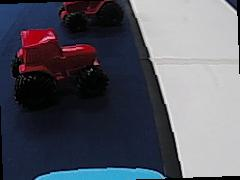Tracktor: (8, 25, 110, 104), (56, 1, 126, 32)
